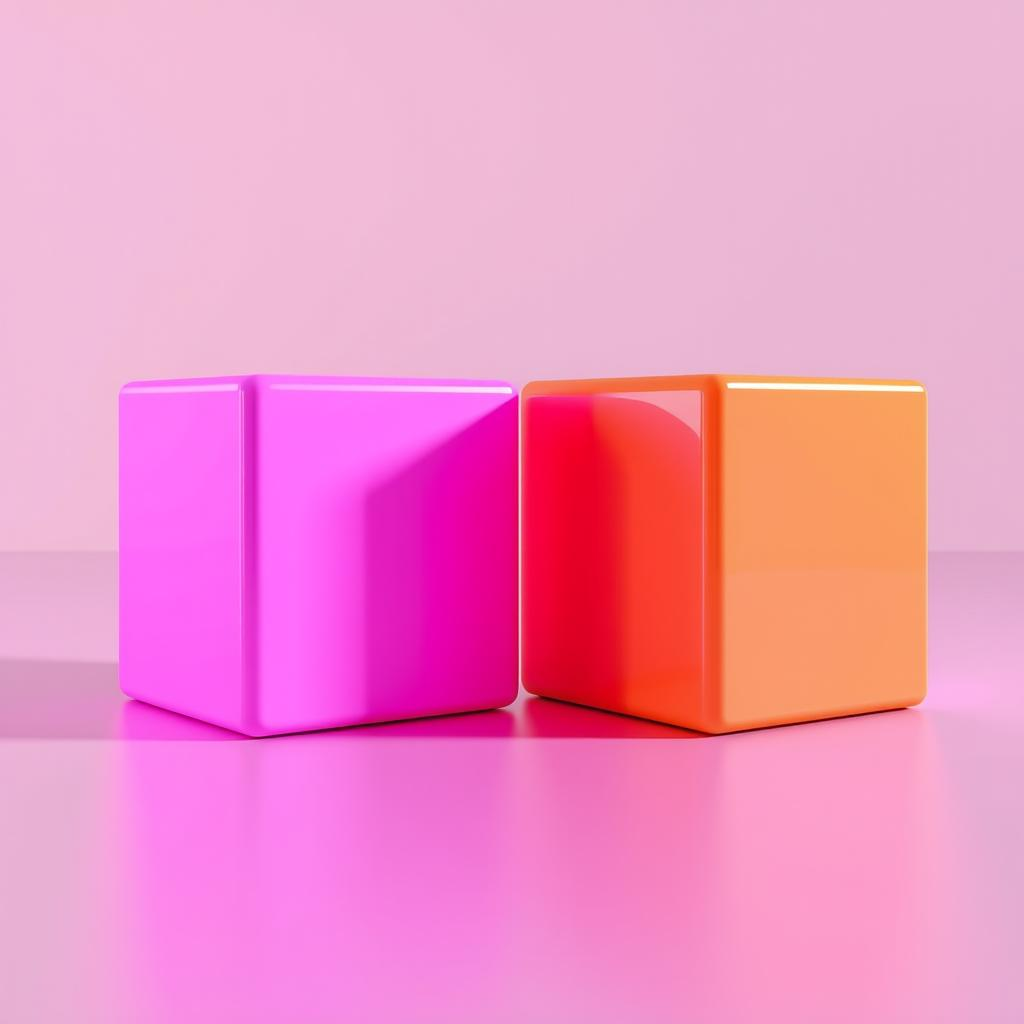cube: (519, 372, 928, 735), (117, 372, 519, 737)
